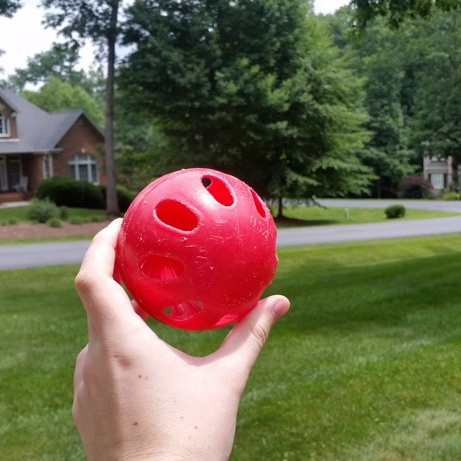redball: (109, 163, 282, 334)
